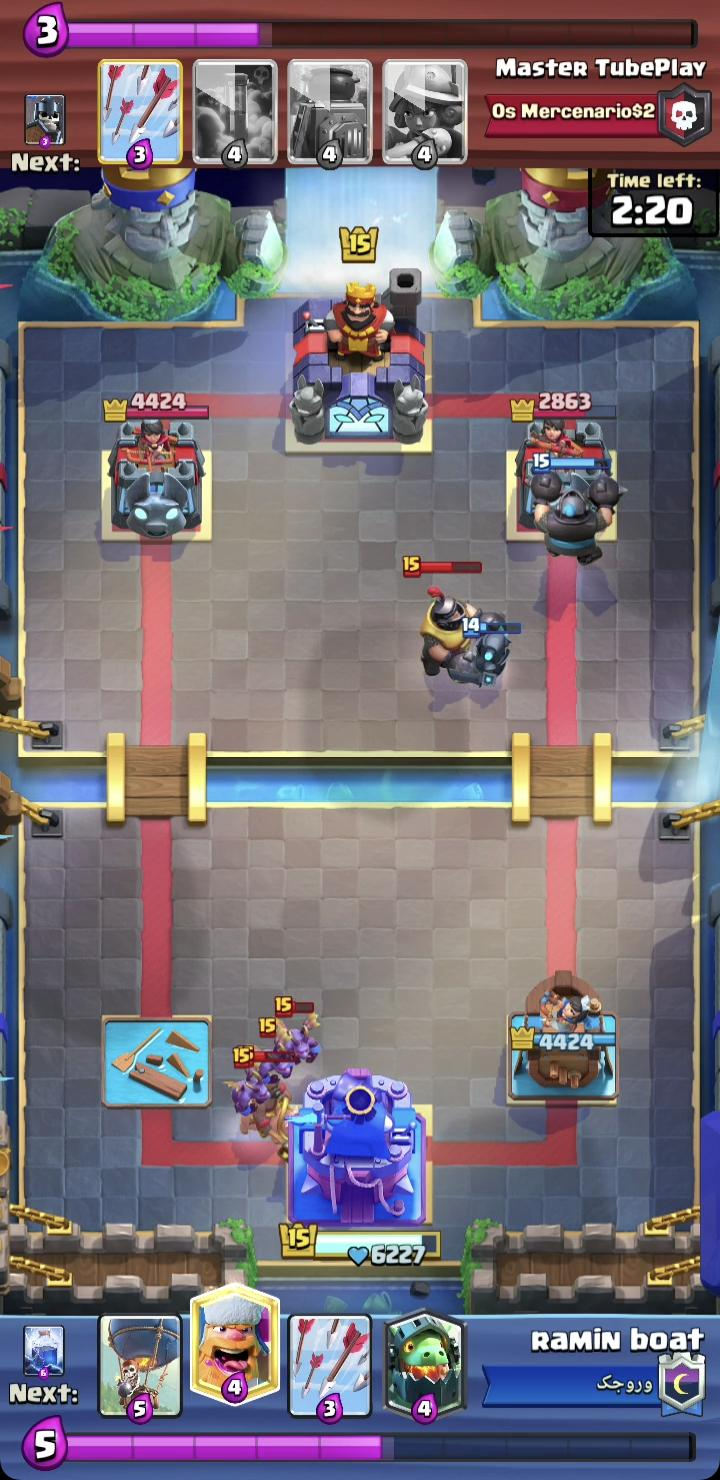EHogRider: (238, 1076, 293, 1141)
EKingTower: (290, 282, 428, 445)
EMegaKnight: (421, 587, 484, 684)
EnemyPrincessTower: (507, 393, 623, 540), (107, 394, 211, 541)
OMegaKnight: (532, 469, 621, 564)
OMiniPekka: (472, 621, 509, 685)
OwnKingTower: (288, 1070, 426, 1225)
OwnPrincessTower: (508, 971, 618, 1103)
TowerDown: (102, 1017, 209, 1108)
eminion: (274, 1013, 321, 1066), (232, 1079, 270, 1116), (245, 1062, 292, 1083)
